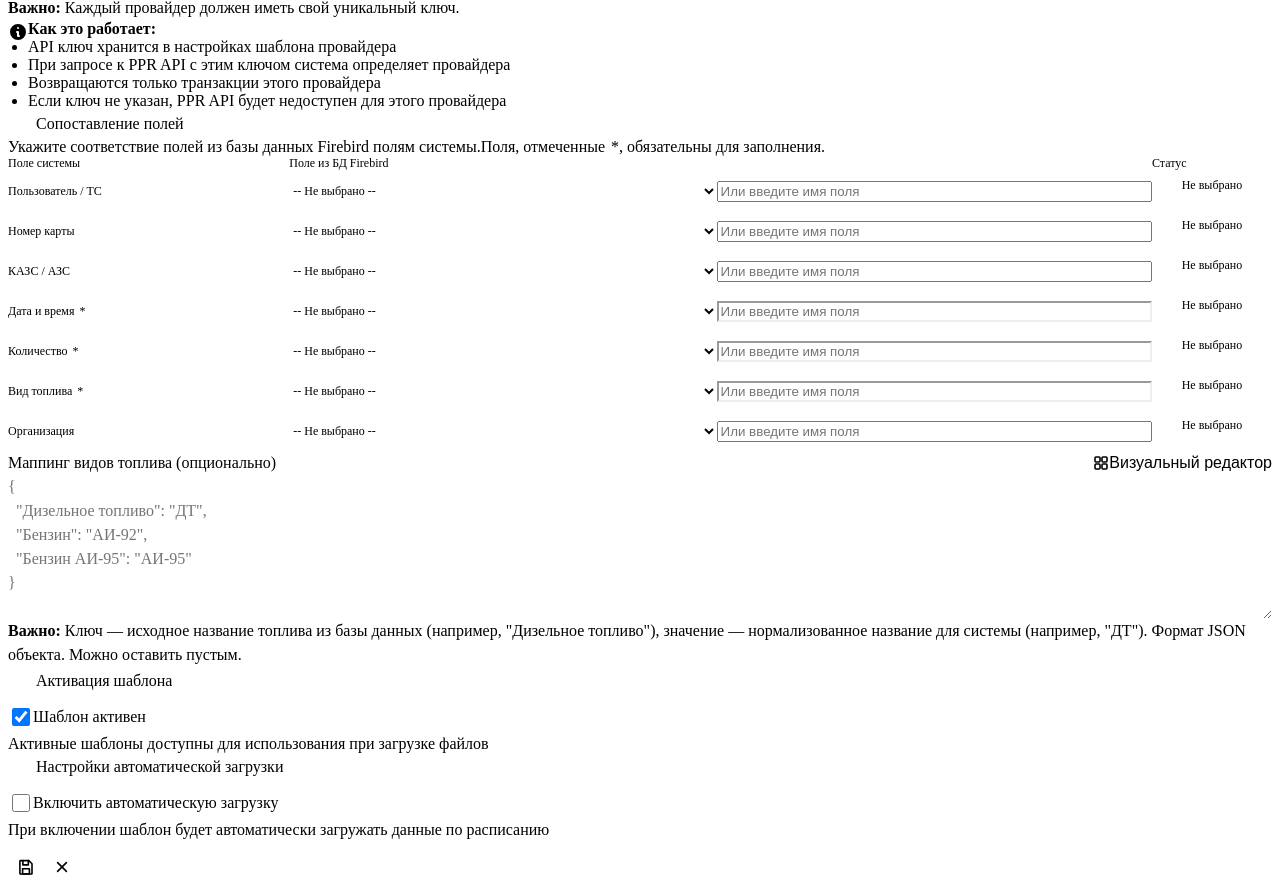
Test: TemplateEditor: маппинг видов топлива › на пустом маппинге добавленная запись остаётся на экране
The width and height of the screenshot is (1280, 893).
(page scrolled)
Click the button "Визуальный редактор": (1183, 463) [1093,454,1272,472]
(page scrolled)
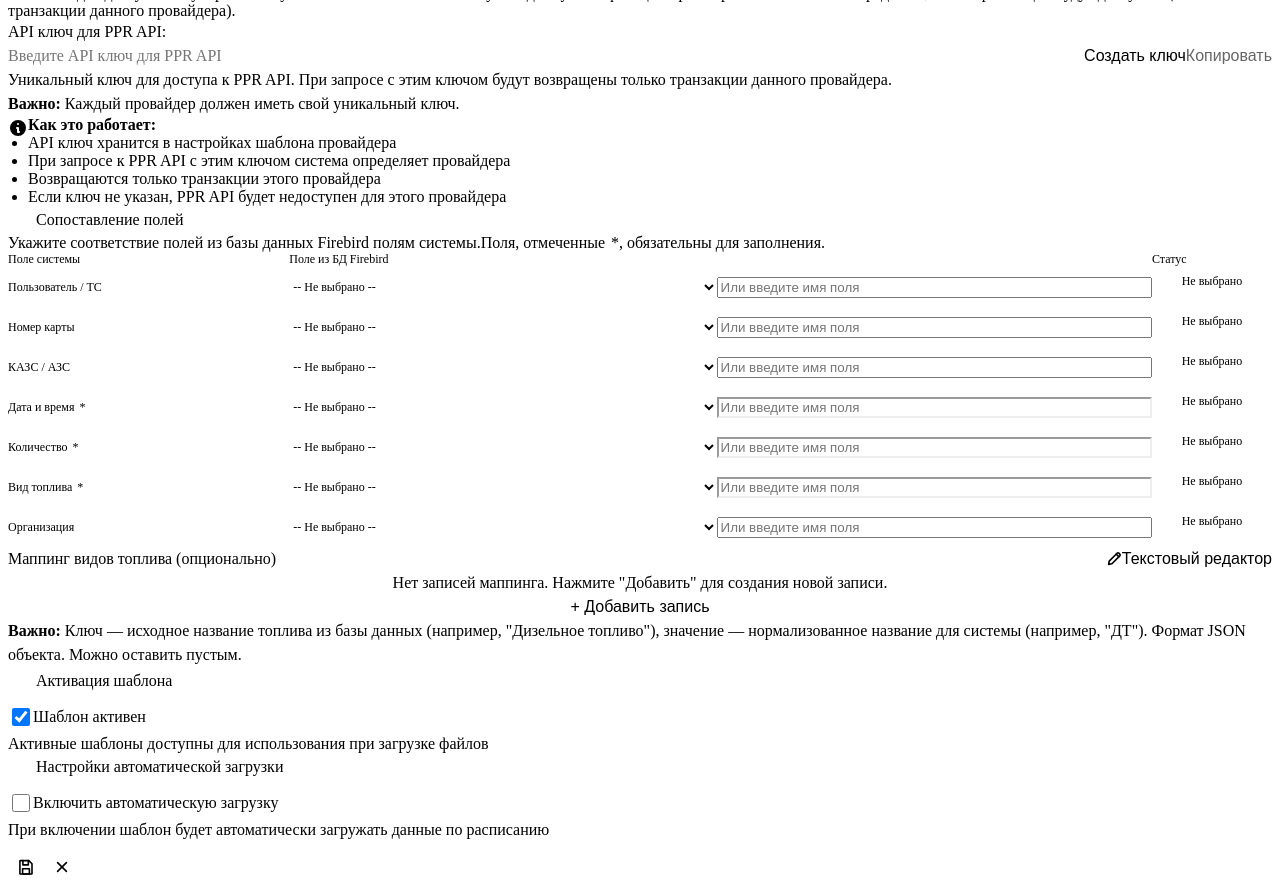
Click the button "+ Добавить запись": (640, 607) [8,598,1272,616]
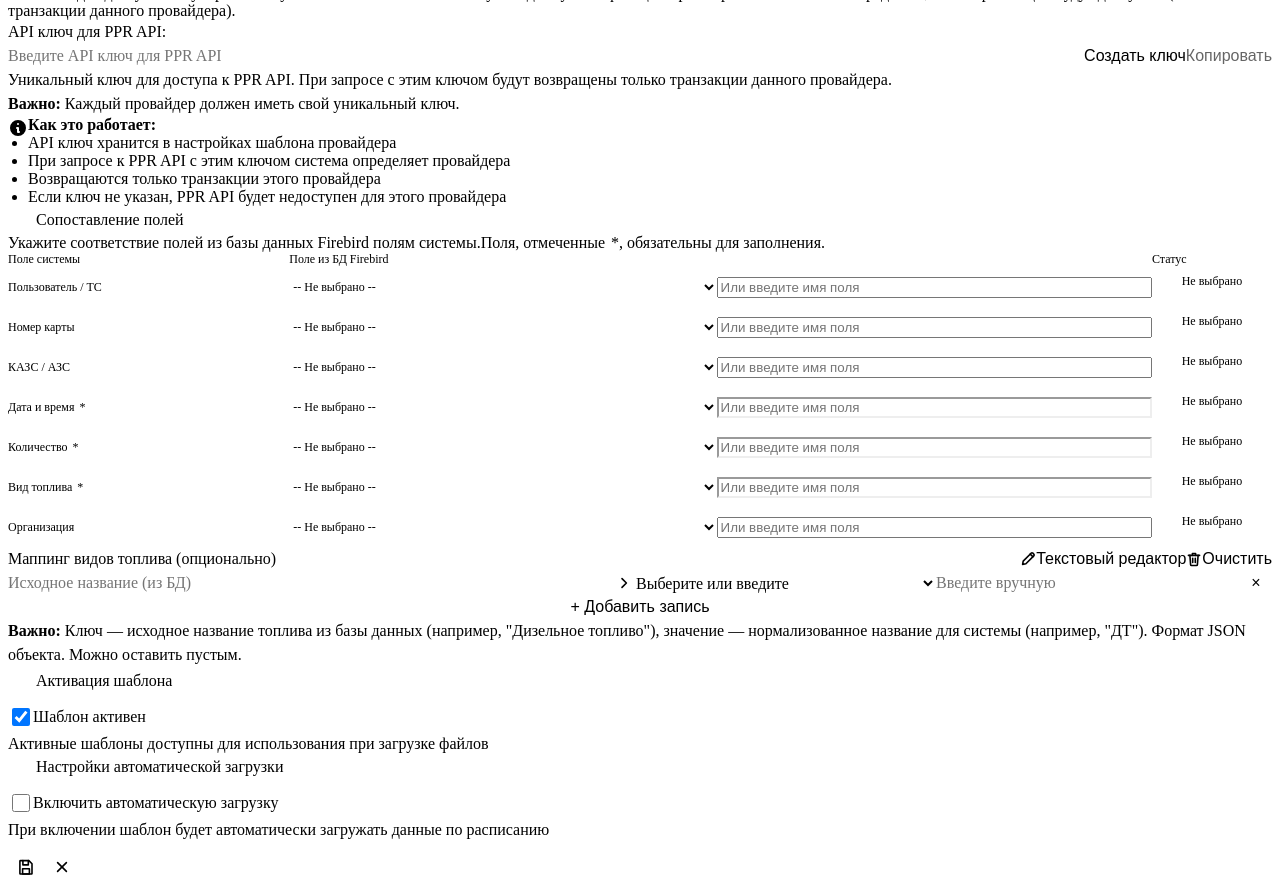
Expected: the number of fields with placeholder "Исходное название (из БД)" is 1, [8,571,616,595]
